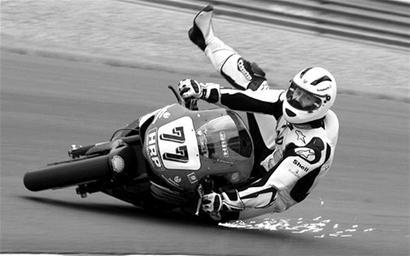fall: (159, 8, 343, 219)
